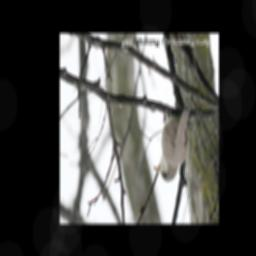Cuckoo: (153, 104, 191, 182)
